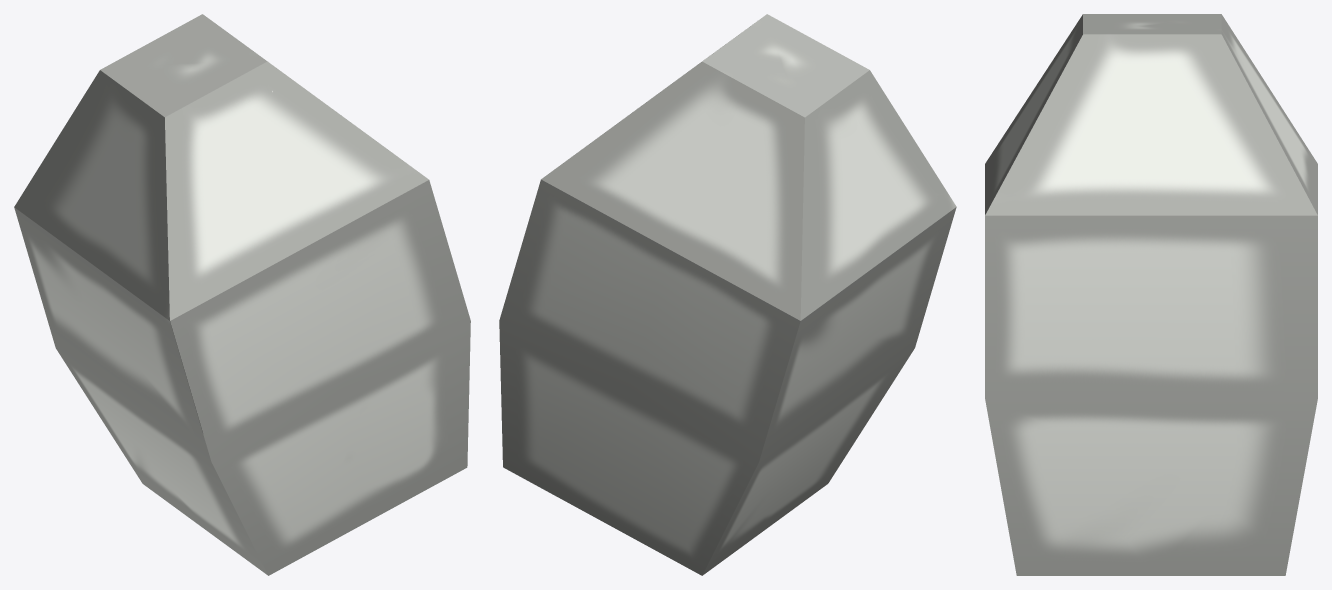
Rendered from Hand L.fbx.
The picture shows the model from 3 angles, left to right: view 1: azimuth 30°, elevation 25°; view 2: azimuth 150°, elevation 25°; view 3: azimuth 270°, elevation 25°; orthographic projection. The views are drawn at different scales.
Visible parts, largest first — view 1: Hand L_Baked; view 2: Hand L_Baked; view 3: Hand L_Baked.
Part boxes in pixels (box(x1,y1,x2,y2)): Hand L_Baked: box(14, 14, 470, 575); Hand L_Baked: box(499, 14, 956, 575); Hand L_Baked: box(985, 14, 1317, 575).
Bounding box in the file's own units: 75.03 × 111 × 64.83.
Materials: 1 (1 with a texture image).
